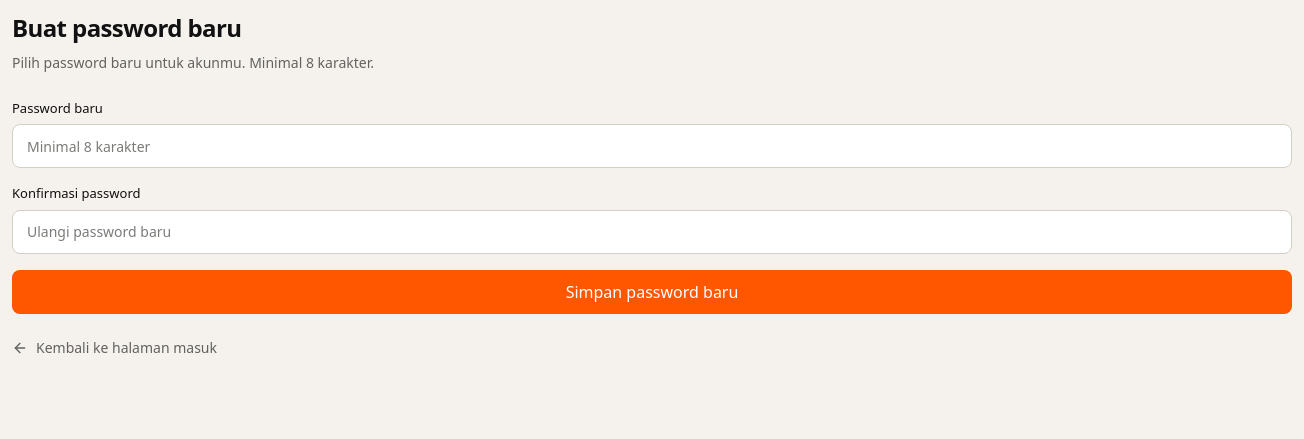
Test: ResetPasswordForm › blocks submission when the confirmation does not match
In the password field with placeholder "Minimal 8 karakter": (652, 146) [12, 124, 1292, 168], type "BaruBanget1"
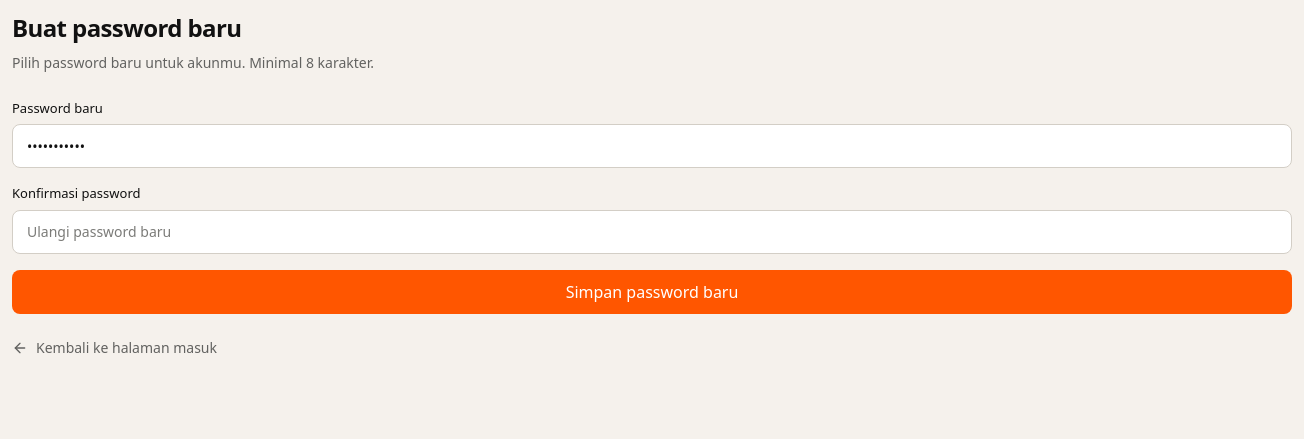
In the password field with placeholder "Ulangi password baru": (652, 232) [12, 210, 1292, 254], type "Berbeda999"
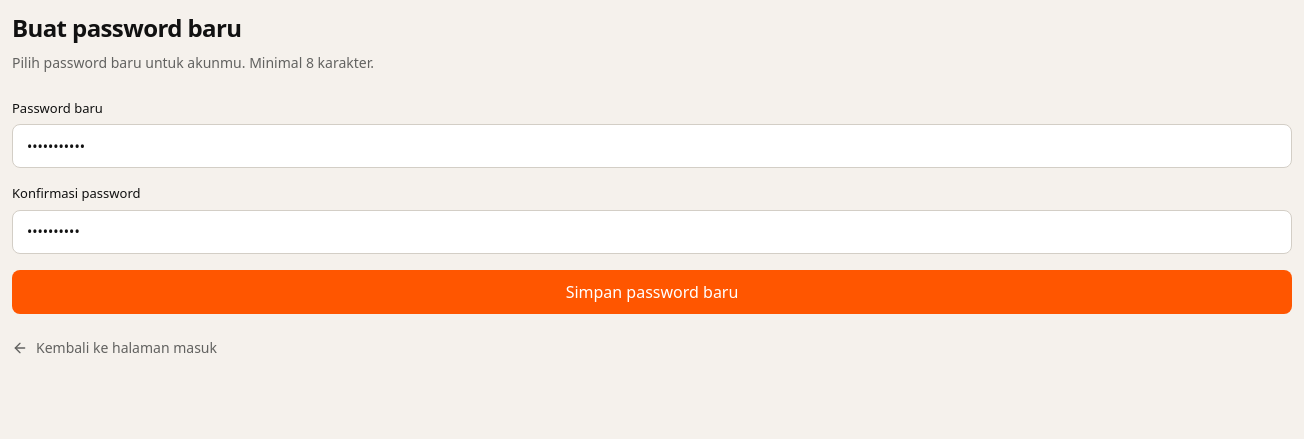
Click the button "Simpan password baru": (652, 292) [12, 270, 1292, 314]
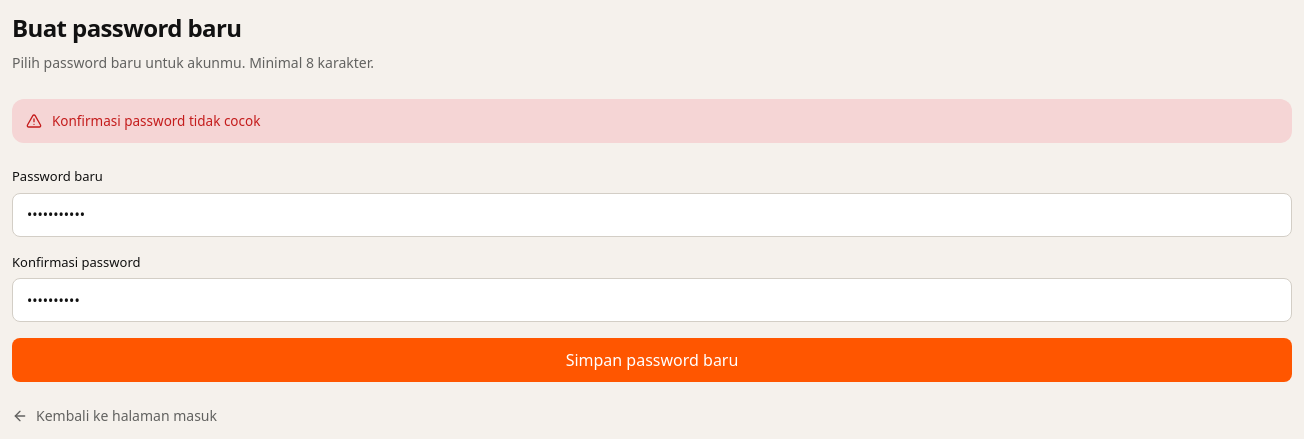
Expected: the text "Konfirmasi password tidak cocok" is shown, [52, 111, 260, 131]
